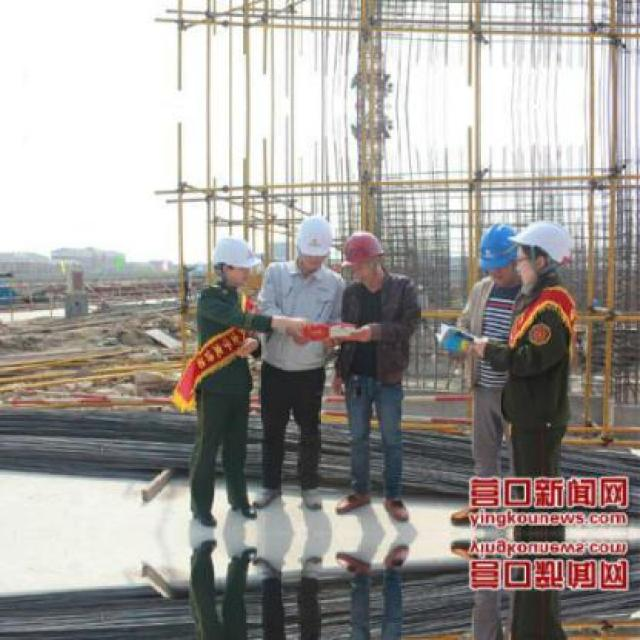helmet: (511, 216, 578, 285), (470, 224, 518, 290), (209, 239, 262, 293), (290, 210, 336, 270), (340, 227, 386, 287)
